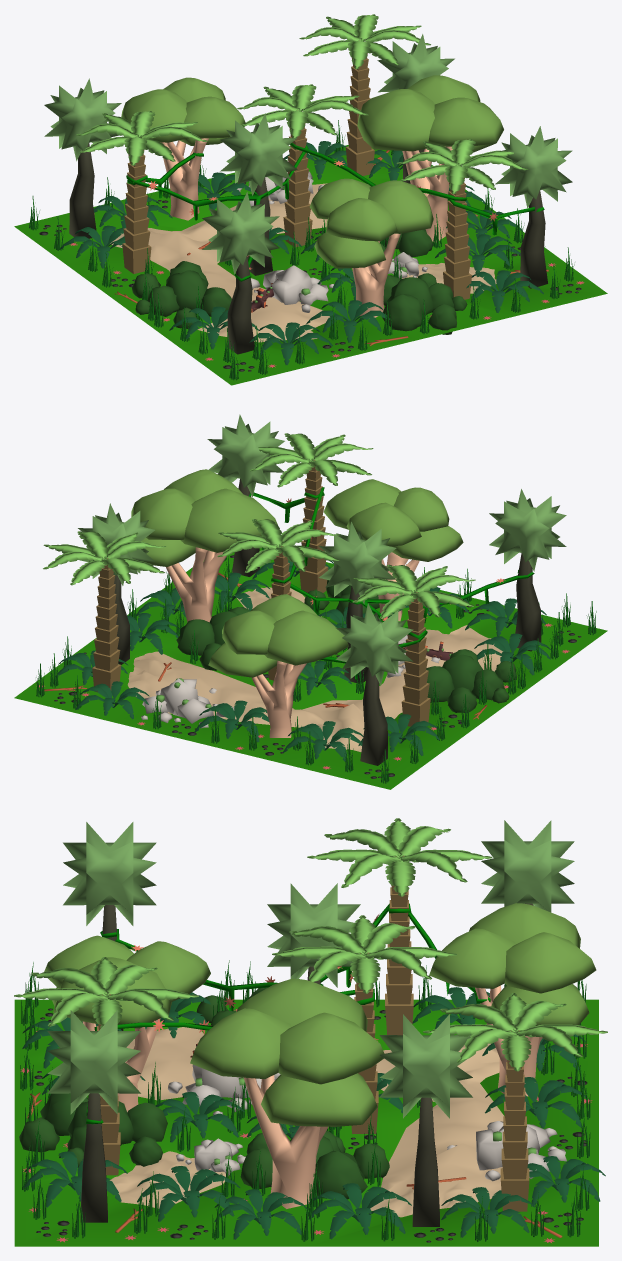
File: jungle_forest.glb
The picture shows the model from 3 angles, top to bottom: view 1: azimuth 30°, elevation 25°; view 2: azimuth 150°, elevation 25°; view 3: azimuth 270°, elevation 25°; orthographic projection. The views are drawn at different scales.
Parts seen in each view (by area): view 1: FlatJungleGrass_Tile1x1; view 2: FlatJungleGrass_Tile1x1; view 3: FlatJungleGrass_Tile1x1.
Part boxes in pixels (x1=…): FlatJungleGrass_Tile1x1: x1=14, y1=14, x2=607, y2=385; FlatJungleGrass_Tile1x1: x1=14, y1=414, x2=607, y2=789; FlatJungleGrass_Tile1x1: x1=14, y1=818, x2=607, y2=1246.
Bounding box in the file's own units: 4.1 × 1.66 × 4.07.
